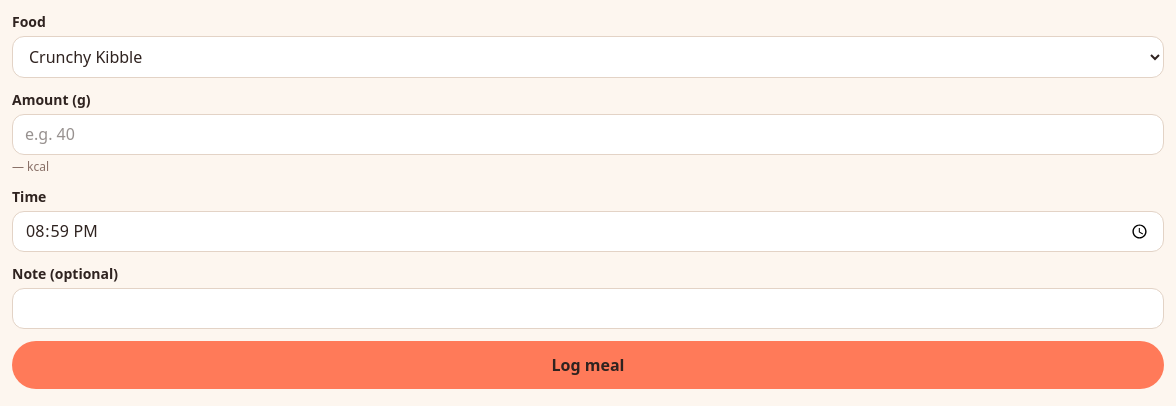
Test: LogMealForm › updates the live kcal preview as grams are typed and food changes
expect the text with test id "meal-kcal-preview" reads "— kcal": met, box [12, 158, 49, 175]
Type "50" into the field with test id "meal-grams" at x=588, y=134, box [12, 114, 1164, 155]
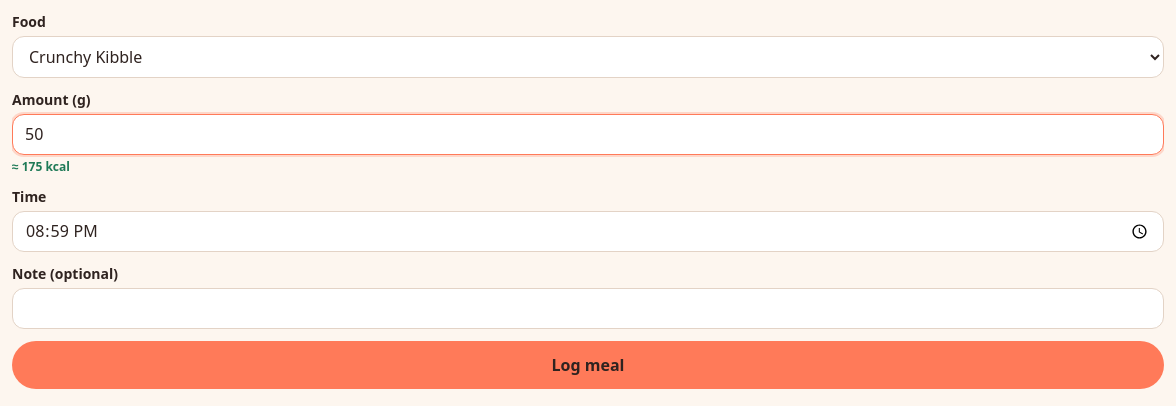
expect the text with test id "meal-kcal-preview" reads "≈ 175 kcal": met, box [12, 158, 70, 175]
Select "Wet Tuna" in the dropdown with test id "meal-food-select" at x=588, y=57, box [12, 36, 1164, 78]
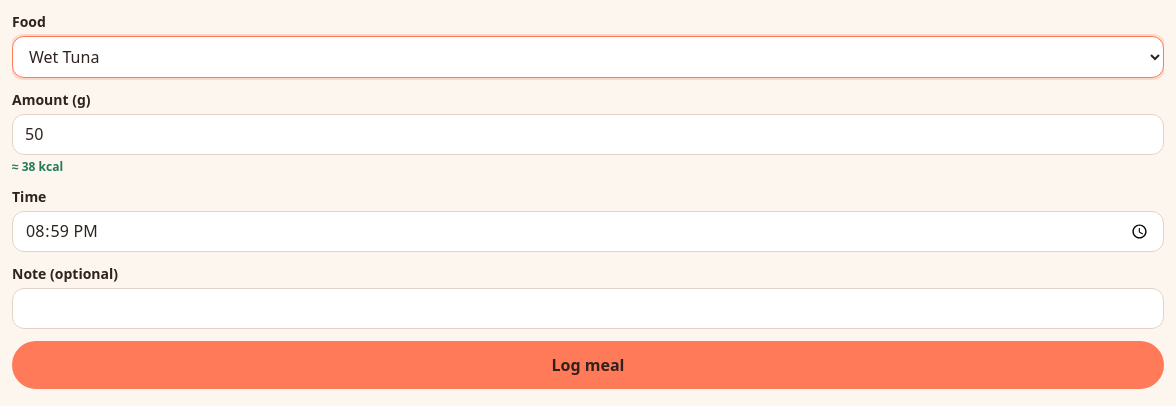
expect the text with test id "meal-kcal-preview" reads "≈ 38 kcal": met, box [12, 158, 63, 175]
Clear the field with test id "meal-grams" at x=588, y=134, box [12, 114, 1164, 155]
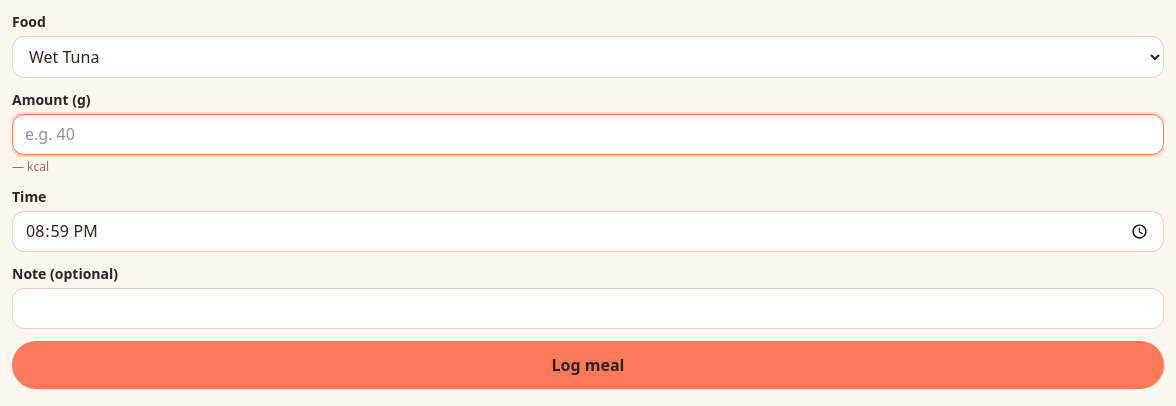
expect the text with test id "meal-kcal-preview" reads "— kcal": met, box [12, 158, 49, 175]
